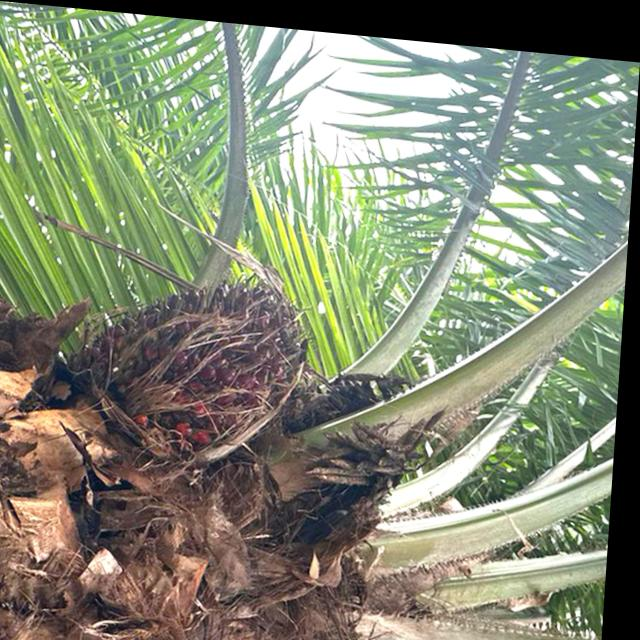ripe: (108, 249, 332, 464)
